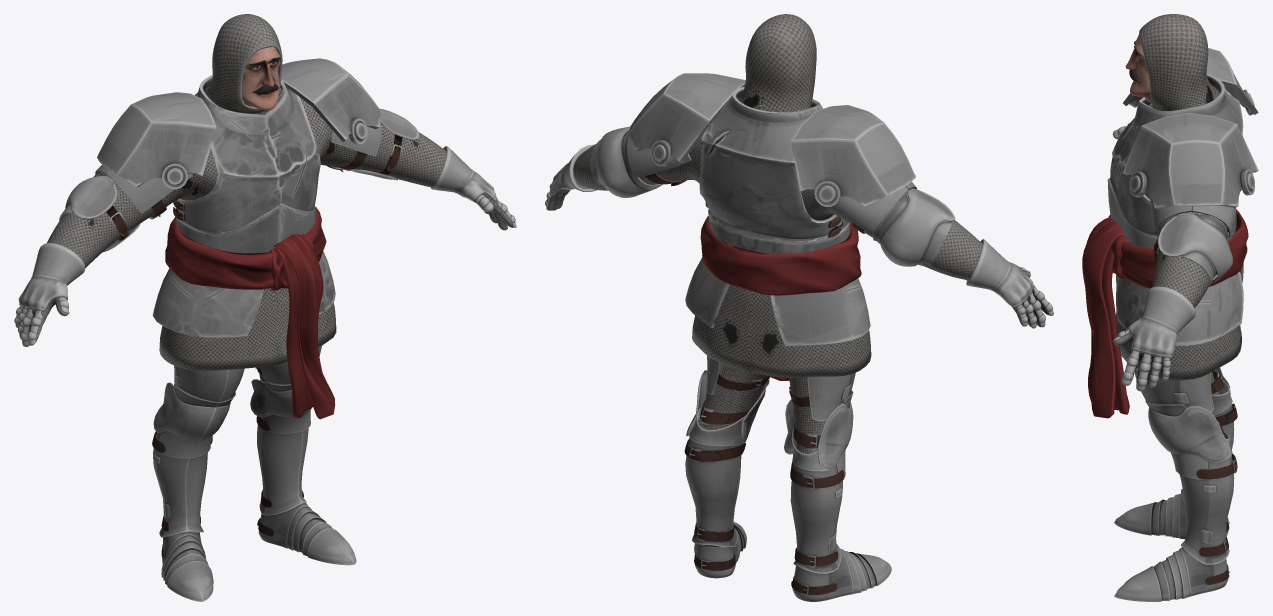
Rendered from Knight.fbx.
3 renders of one model, left to right at view 1: azimuth 30°, elevation 25°; view 2: azimuth 150°, elevation 25°; view 3: azimuth 270°, elevation 25°, orthographic.
Visible parts, largest first — view 1: Knight; view 2: Knight; view 3: Knight.
Part boxes in pixels (left/top/right/bottom): Knight: left=14, top=14, right=516, bottom=601; Knight: left=545, top=14, right=1053, bottom=601; Knight: left=1082, top=14, right=1258, bottom=601.
Size of the model in its own units: 167 by 178 by 52.58.
